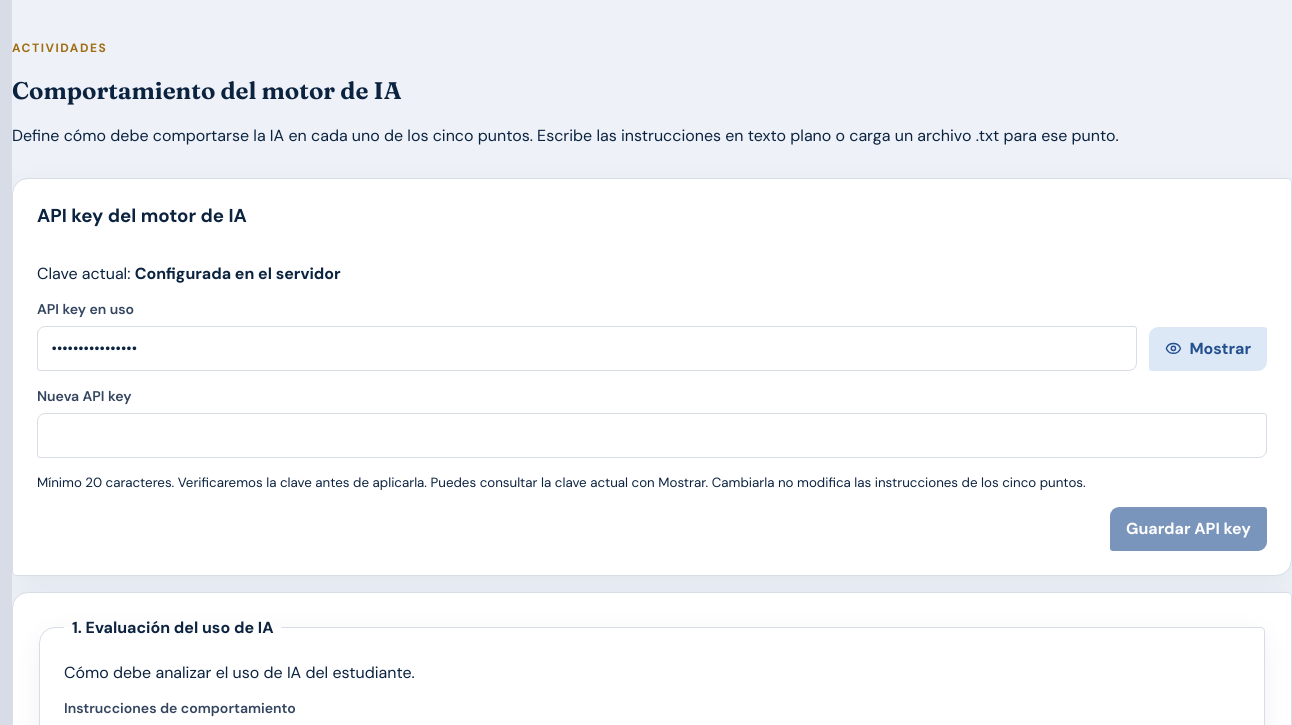
Test: AdminAiSettings › clears the revealed old key before saving a replacement
The image size is (1292, 725).
Click the button with class "ai-reveal-key" at [1208, 349], box [1149, 327, 1267, 371]
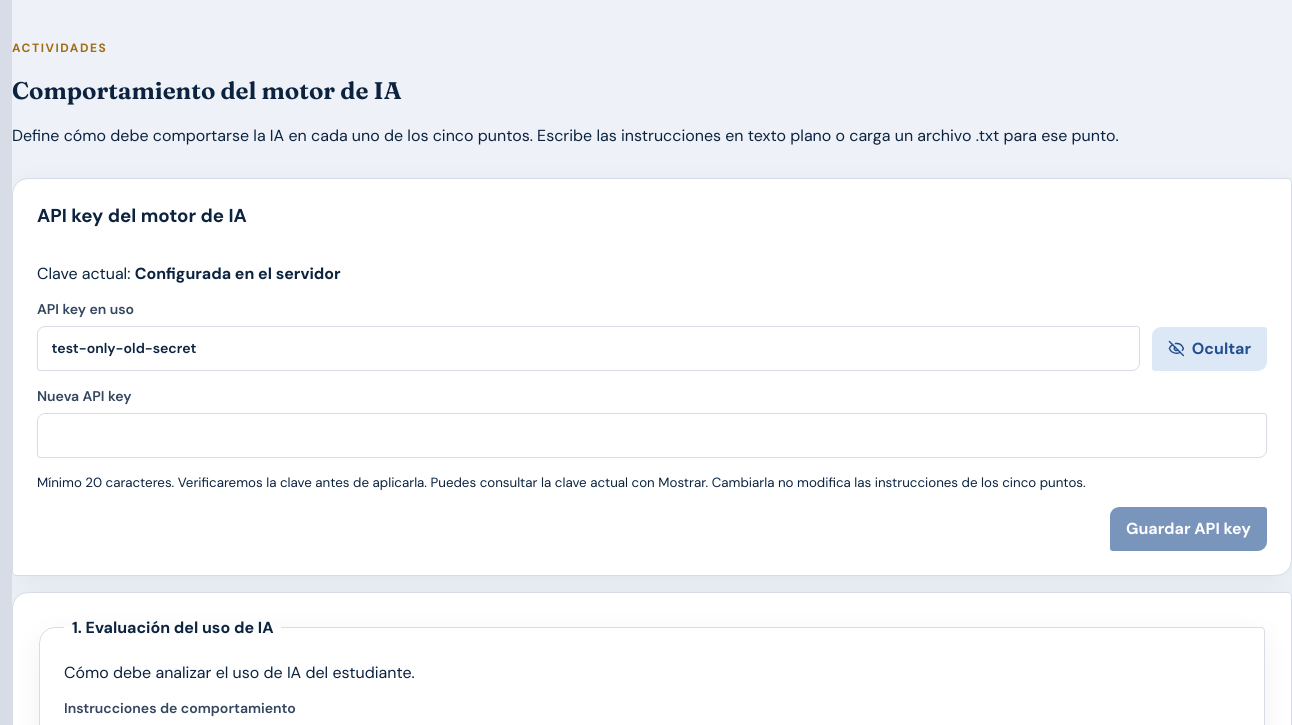
Result: the field with id "ai-active-api-key" holds "test-only-old-secret" at [37, 326, 1140, 371]
Type "test-only-admin-panel-key" into the password field with id "ai-api-key" at [652, 435], box [37, 413, 1267, 458]
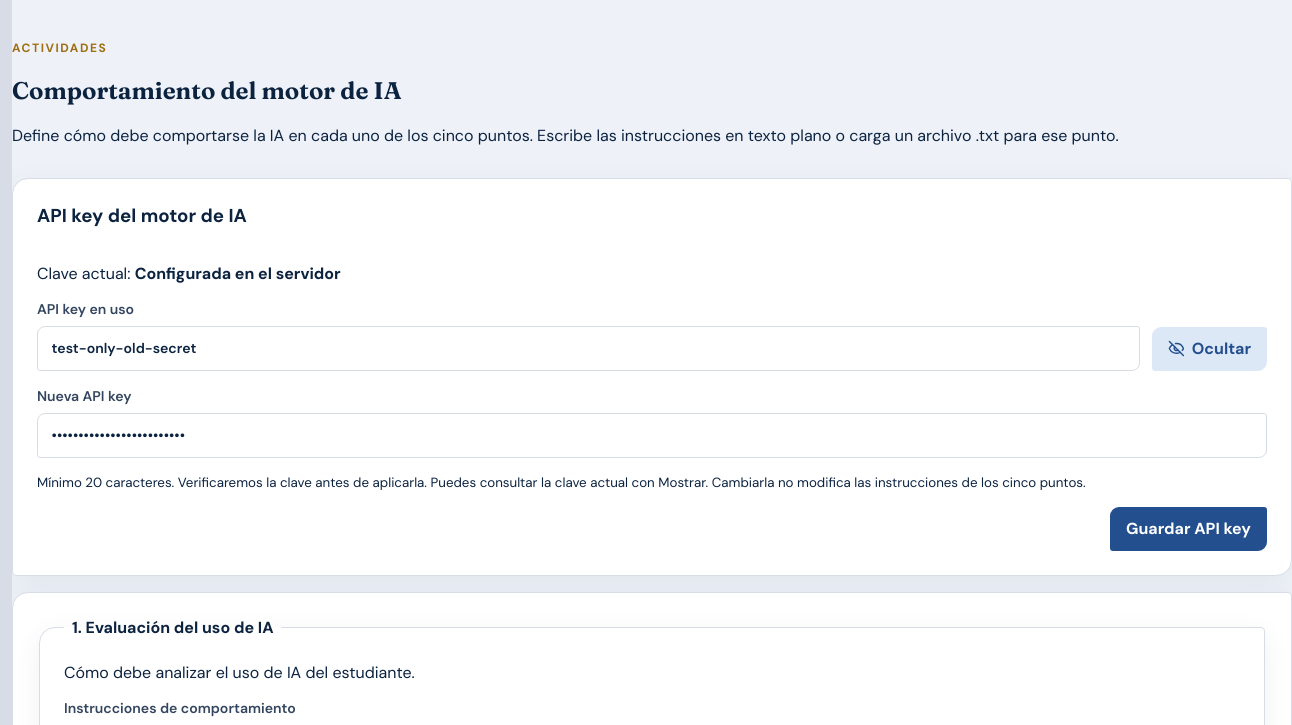
Submit the form with class "ai-key-form", box [12, 178, 1291, 576]
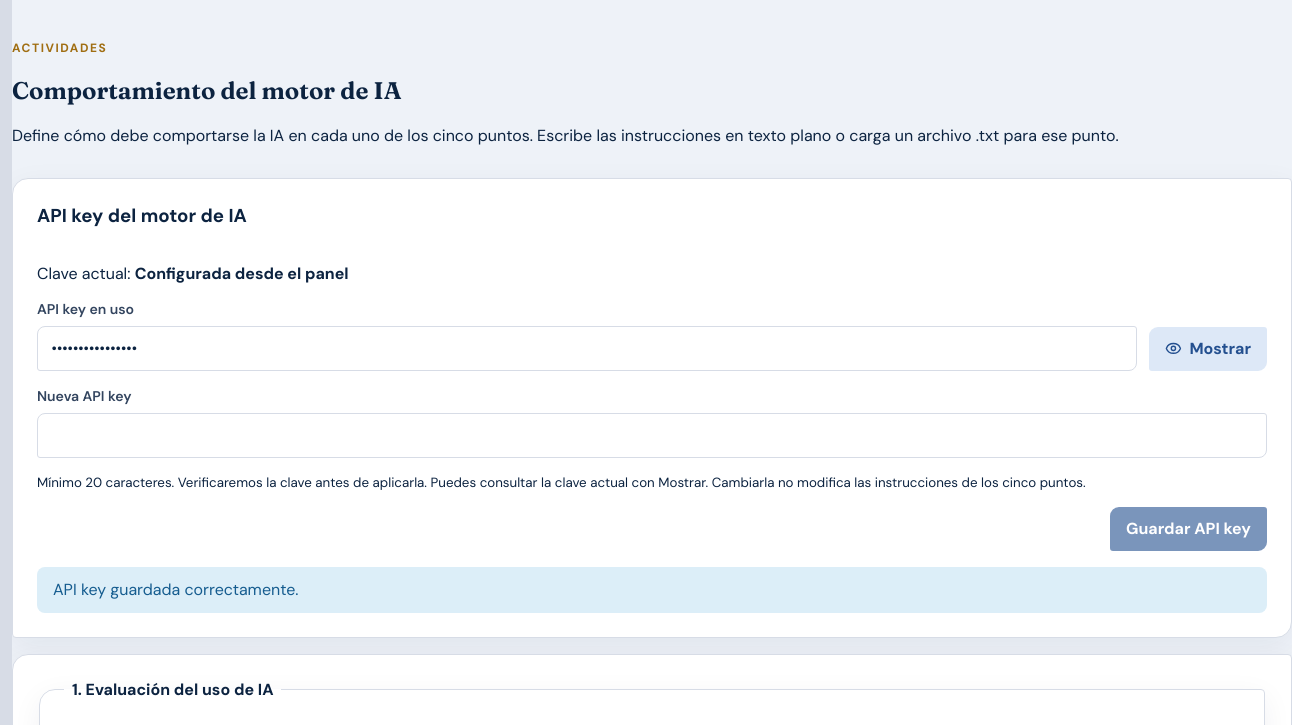
Result: the password field with id "ai-active-api-key" hides its text at [37, 326, 1137, 371]
Result: the password field with id "ai-api-key" is empty at [37, 413, 1267, 458]
